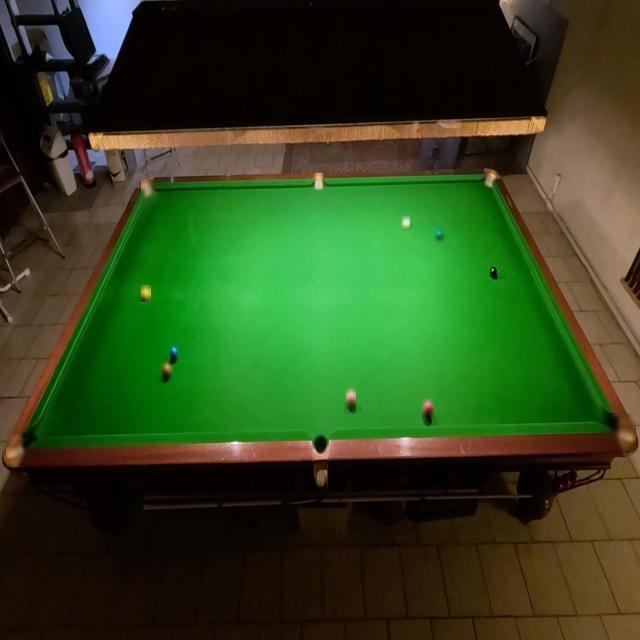Ball: (161, 361, 173, 381), (168, 344, 180, 364), (422, 400, 434, 420), (346, 388, 356, 409), (490, 264, 500, 282), (141, 285, 151, 302), (434, 228, 444, 243), (402, 216, 410, 231)
Pocket: (6, 427, 39, 467), (603, 414, 636, 452), (312, 434, 329, 456), (482, 171, 498, 190), (141, 180, 155, 199), (313, 174, 325, 190)
